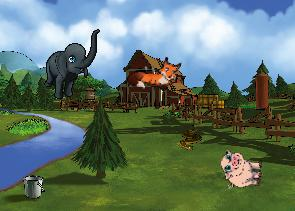elephant: (44, 29, 100, 99)
fox: (126, 52, 182, 93)
pig: (219, 149, 264, 190)
